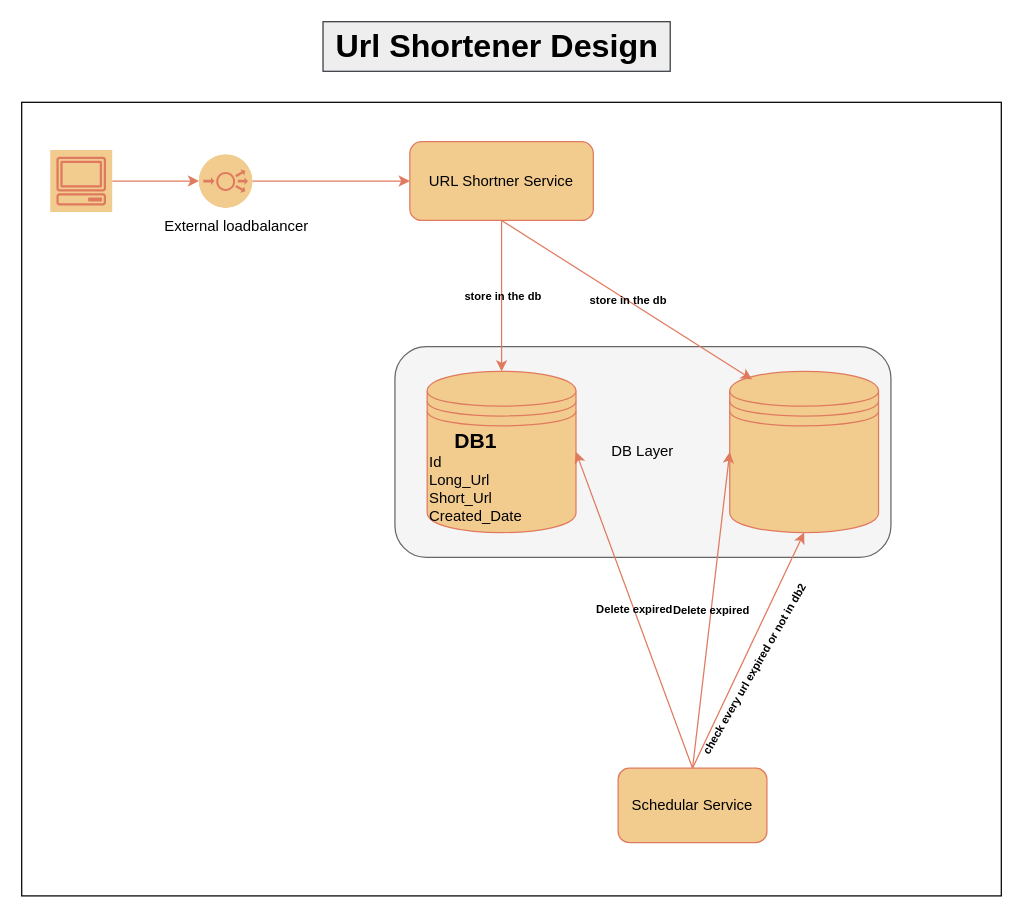
This 1023x918 diagram has some shape labels left out. Here are the shapes that lost their labels. From the top down, the centre of each, then its label:
At pixel 80 180: "Client".
At pixel 803 451: "DB2 Id Long_Url Short_Url Created_Date".
